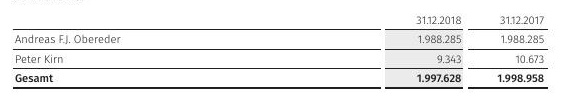table: (0, 0, 562, 100)
